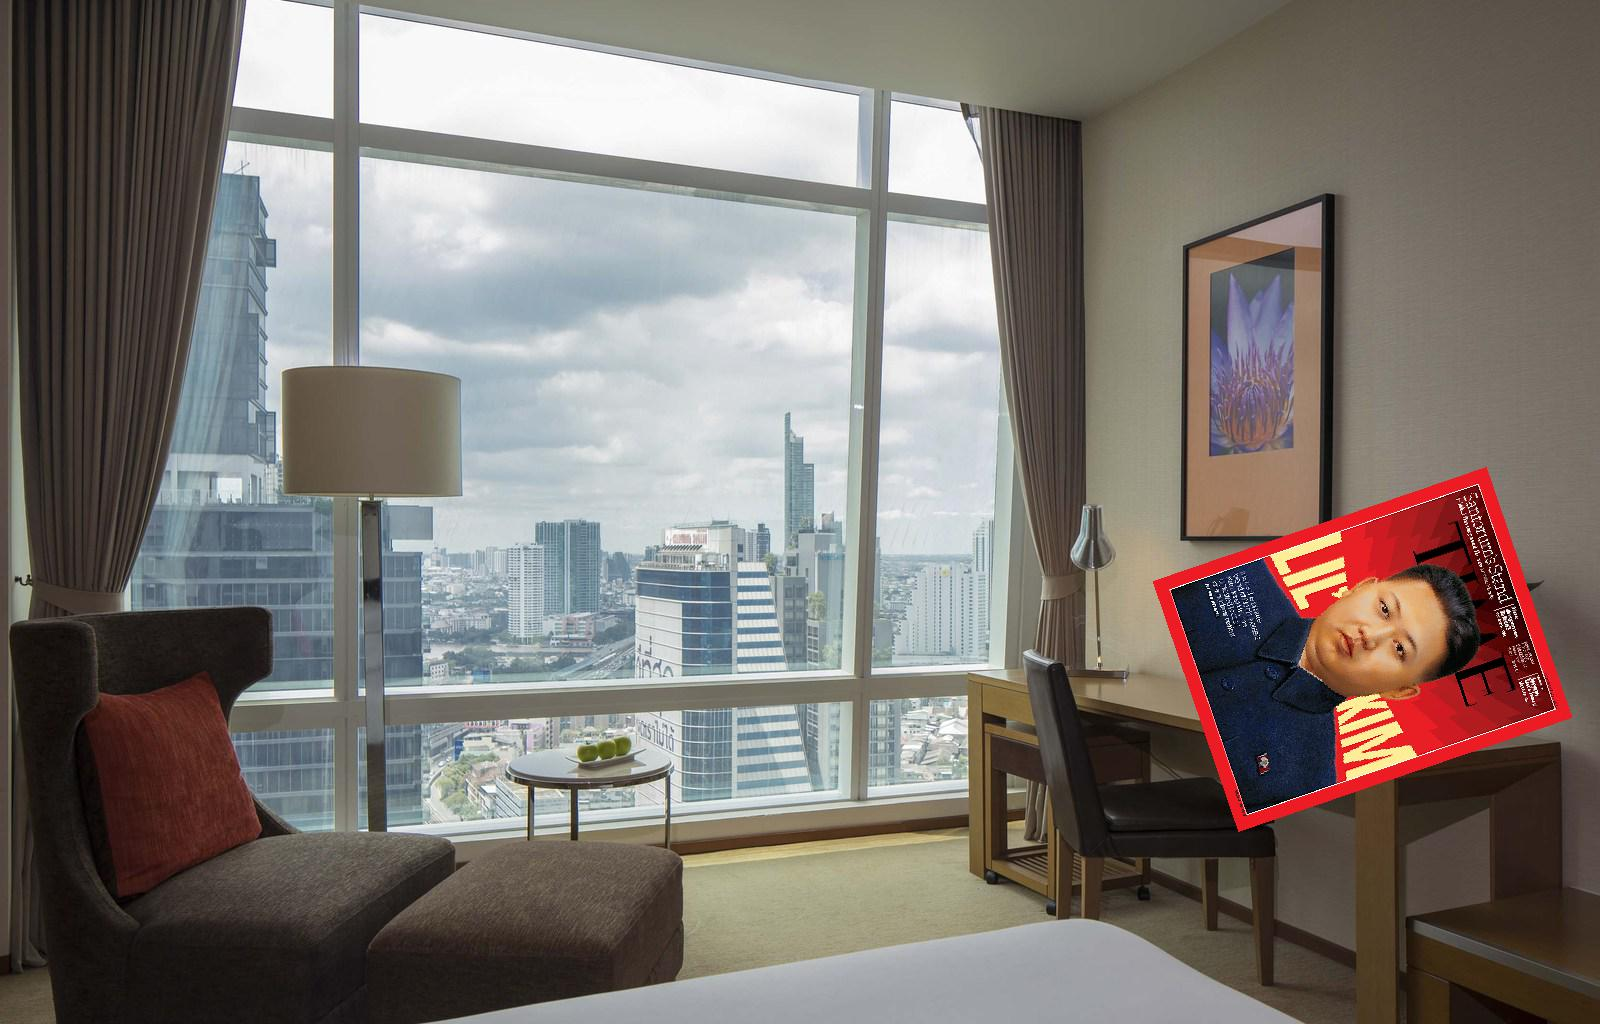times: (1144, 467, 1576, 835)
